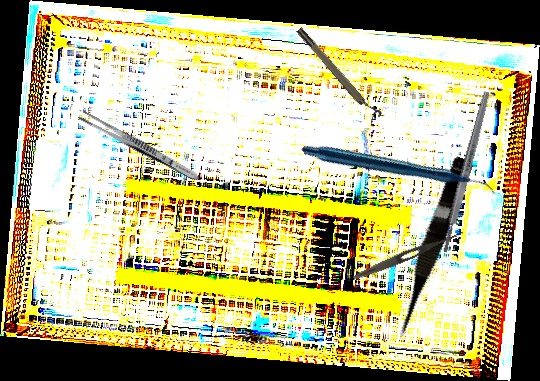Dressing Forceps: (75, 108, 204, 185), (351, 227, 465, 283)
Fixation Ring: (294, 22, 384, 125)
Handpiece: (300, 72, 497, 271)
Micro Scissor: (385, 153, 475, 342)
Scalpel Handle: (439, 90, 493, 254)
